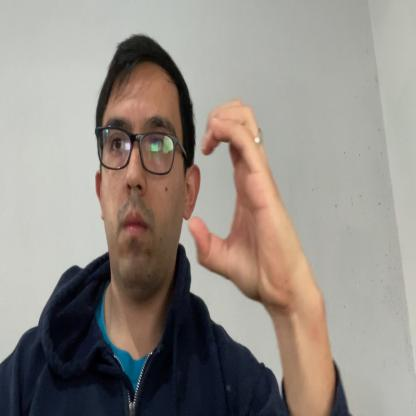C: (188, 95, 296, 312)
